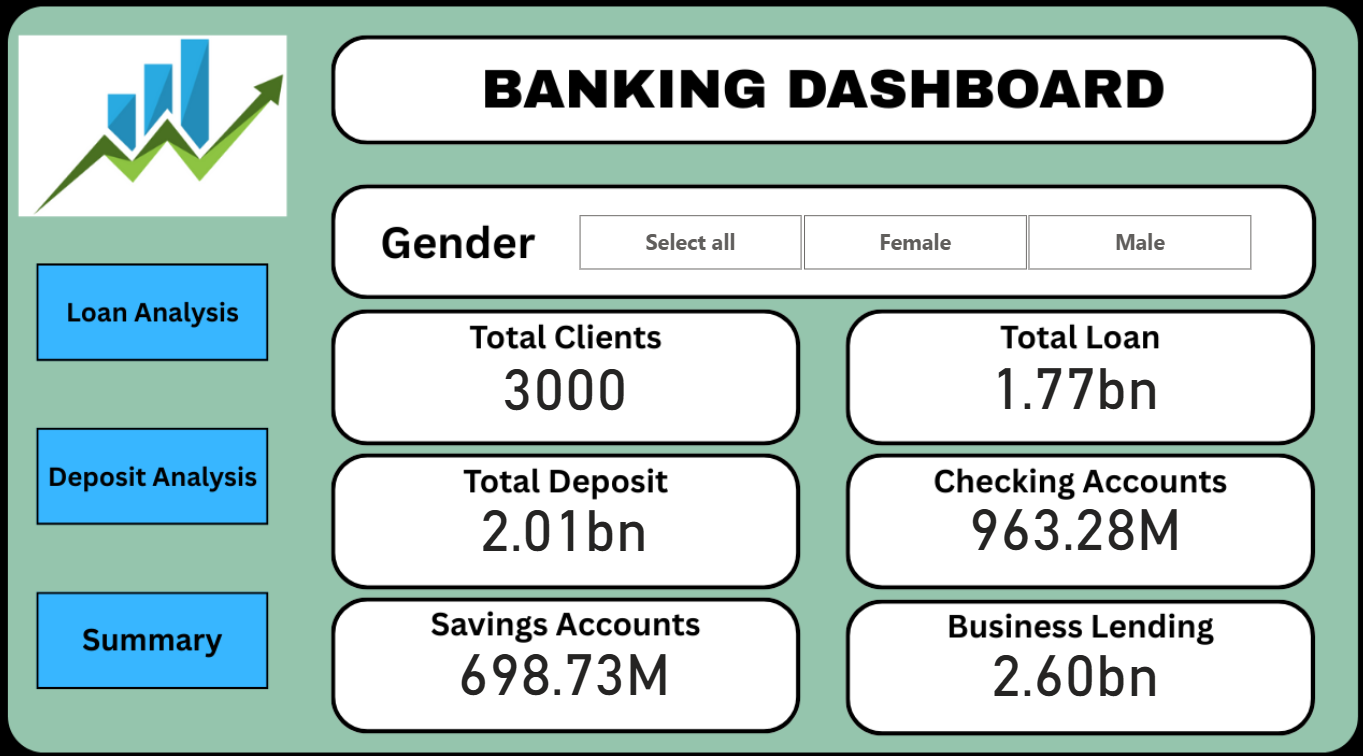

The page's visual inventory and layout, read from the dashboard file:
{"tool":"powerbi","page":{"name":"Home","canvas":[1280,720],"ordinal":0},"visuals":[{"type":"card","fields":{"Values":["CountNonNull(Banking.Name)"]},"box":[400.7,326.6,258,67.2],"z":0},{"type":"slicer","fields":{"Values":["Banking.GenderId"]},"box":[517.3,197.6,675.1,64.5],"z":1000},{"type":"card","fields":{"Values":["Sum(Banking.Bank Loans)"]},"box":[854.9,307.4,300.5,104.3],"z":2000},{"type":"card","fields":{"Values":["Sum(Banking.Bank Deposits)"]},"box":[378.7,428.1,300.5,126.2],"z":3000},{"type":"card","fields":{"Values":["Sum(Banking.Checking Accounts)"]},"box":[854.9,437.7,300.5,105.7],"z":4000},{"type":"card","fields":{"Values":["Sum(Banking.Saving Accounts)"]},"box":[378.7,569.5,300.5,111.1],"z":5000},{"type":"card","fields":{"Values":["Sum(Banking.Business Lending)"]},"box":[854.9,584.6,300.5,83.7],"z":6000},{"type":"actionButton","box":[38.4,250,218.6,90.7],"z":7000},{"type":"actionButton","box":[38.4,400,218.6,90.7],"z":8000},{"type":"actionButton","box":[38.4,554.7,218.6,90.7],"z":9000}]}

Visuals, with their boxes in screenshot pixels (x1, y1, x2, y2), scaled from the page's 1280x720 canvas onto the 1363x756 screenshot:
card - CountNonNull(Banking.Name): [427,343,701,413]
slicer - Banking.GenderId: [551,207,1270,275]
card - Sum(Banking.Bank Loans): [910,323,1230,432]
card - Sum(Banking.Bank Deposits): [403,450,723,582]
card - Sum(Banking.Checking Accounts): [910,460,1230,571]
card - Sum(Banking.Saving Accounts): [403,598,723,715]
card - Sum(Banking.Business Lending): [910,614,1230,702]
actionButton: [41,262,274,358]
actionButton: [41,420,274,515]
actionButton: [41,582,274,678]
